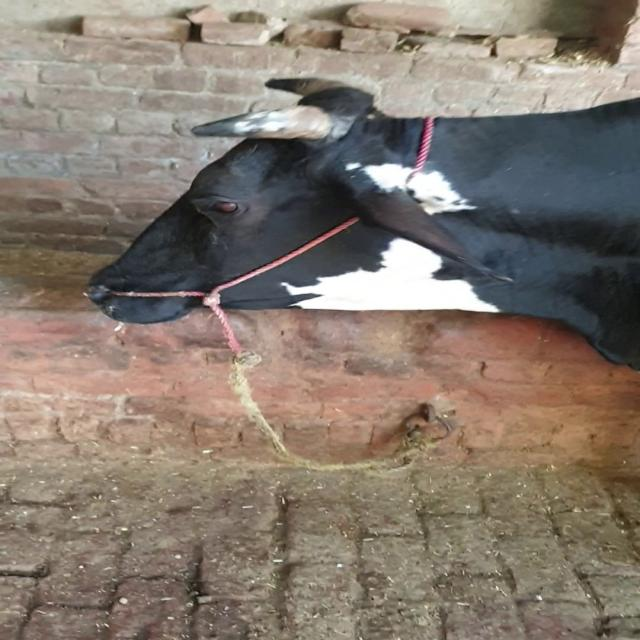cowFace: (57, 69, 404, 339)
